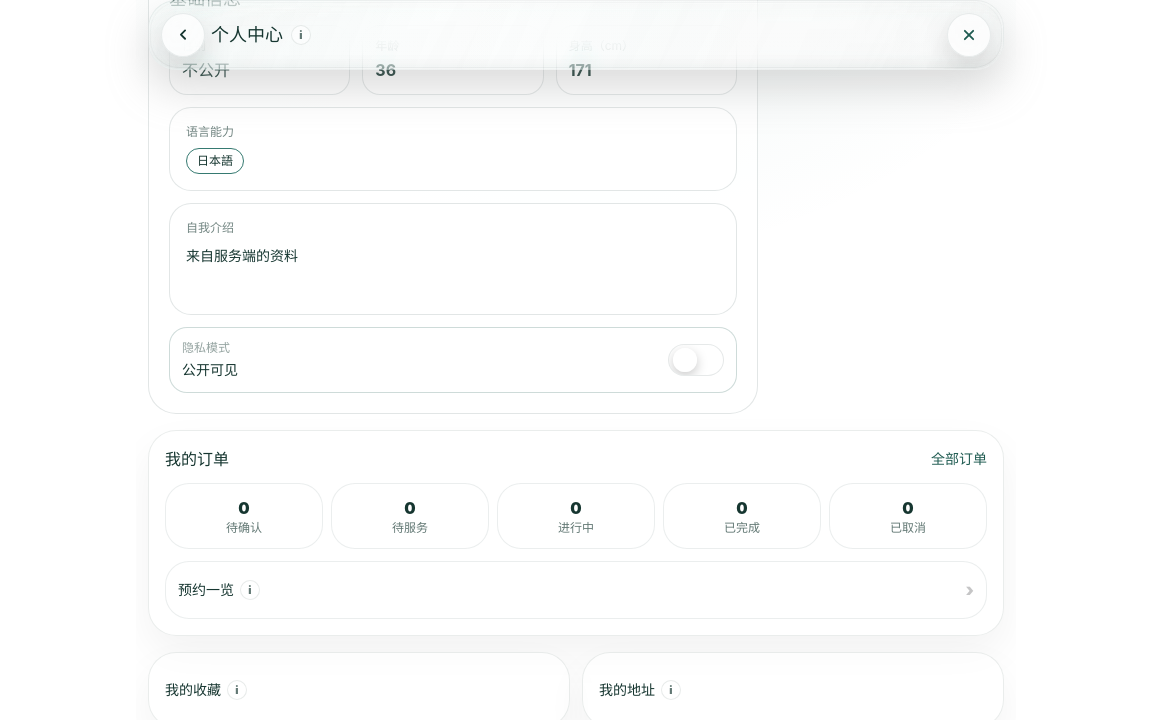
UserCenterPage inline profile editing › keeps the saved privacy state when a direct privacy update fails
(page scrolled)
Click the switch named "开启隐私模式" at (696,360), box [668, 344, 724, 376]
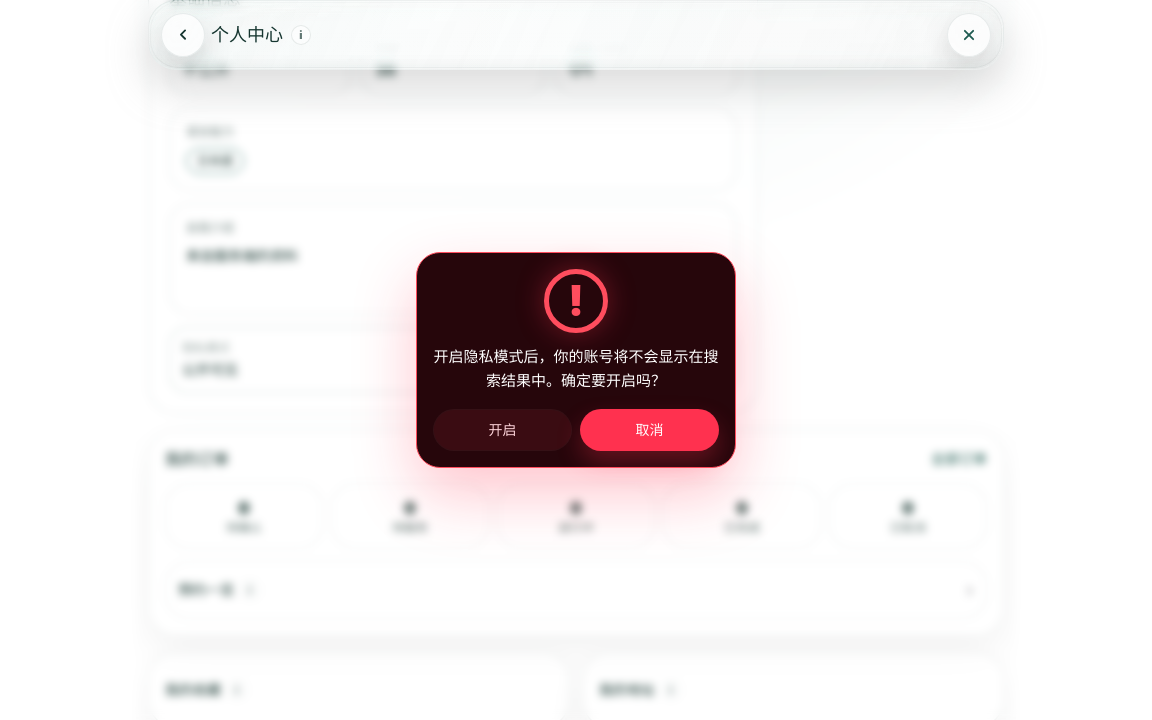
Click the button "开启" at (502,430), box [433, 409, 572, 451]
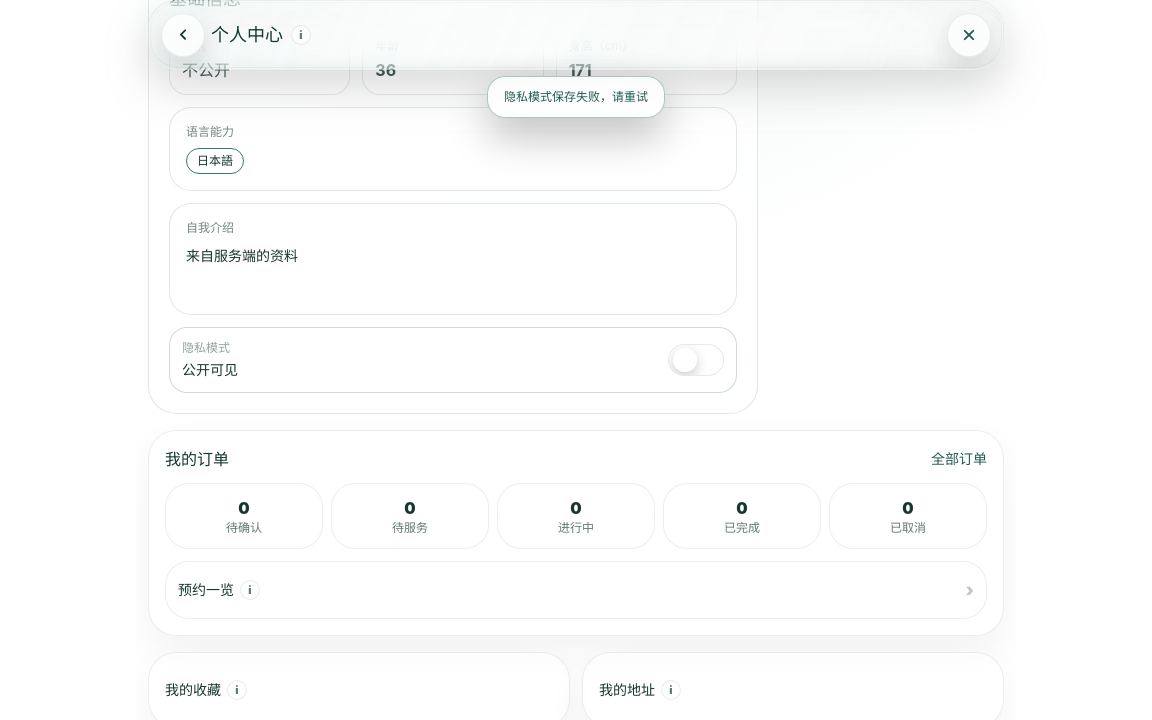
Expected: the text "公开可见" is shown, [182, 361, 238, 378]
Expected: the text "隐私模式保存失败，请重试" is shown, [487, 76, 665, 118]
